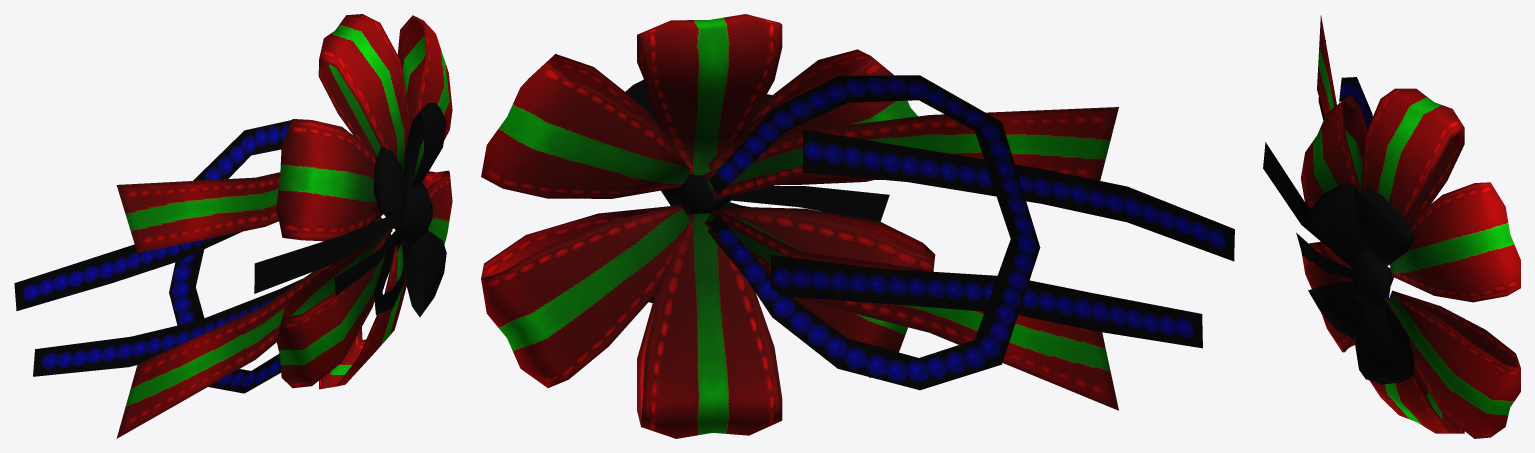
3 renders of one model, left to right at view 1: azimuth 30°, elevation 25°; view 2: azimuth 150°, elevation 25°; view 3: azimuth 270°, elevation 25°, orthographic. The views are drawn at different scales.
Visible parts, largest first — view 1: B1255; view 2: B1255; view 3: B1255.
Part boxes in pixels (x1,y1,x2,y2): B1255: (14, 14, 452, 438); B1255: (481, 14, 1234, 438); B1255: (1263, 15, 1520, 438).
Size of the model in its own units: 0.4975 by 0.3103 by 0.2232.
